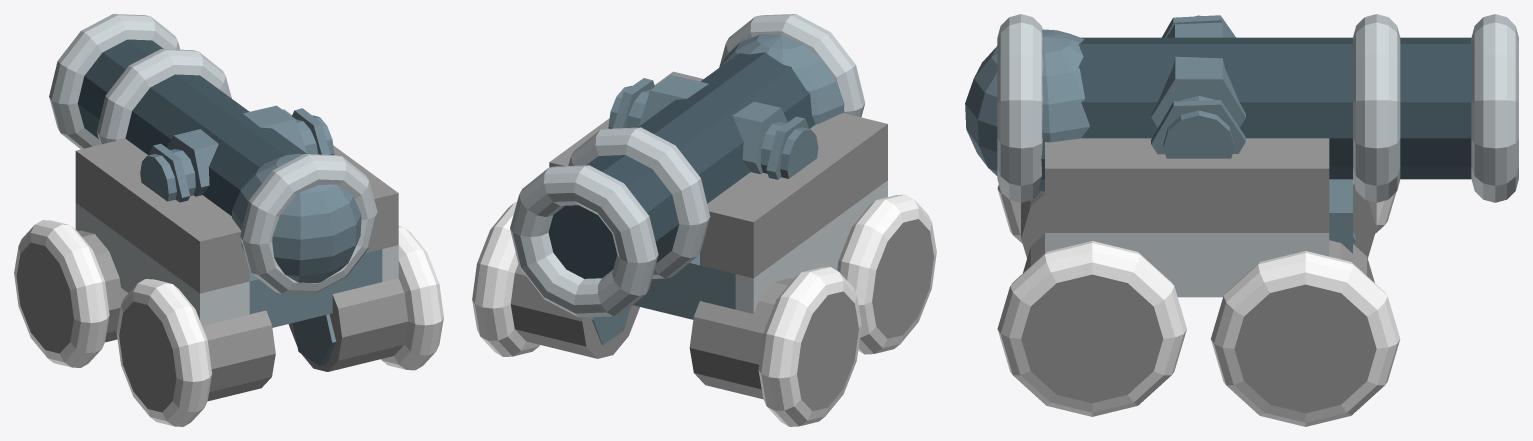
File: canhao.fbx
3 renders of one model, left to right at view 1: azimuth 30°, elevation 25°; view 2: azimuth 150°, elevation 25°; view 3: azimuth 270°, elevation 25°, orthographic. The views are drawn at different scales.
Visible parts, largest first — view 1: mesh_285139977, mesh_308771715, mesh_18012975, mesh_1867035738, mesh_1988317692, mesh_1149503058, mesh_541476541, mesh_851251280, mesh_239270354, mesh_876331153, mesh_43604787, mesh_2053900517 (+11 smaller); view 2: mesh_308771715, mesh_285139977, mesh_876331153, mesh_851251280, mesh_1149503058, mesh_1744436518, mesh_541476541, mesh_18012975, mesh_89334741, mesh_568925677, mesh_43604787, mesh_1867035738 (+10 smaller); view 3: mesh_308771715, mesh_638406648, mesh_568925677, mesh_239270354, mesh_89334741, mesh_2053900517, mesh_1695365892, mesh_1744436518, mesh_876331153, mesh_1867035738, mesh_1988317692, group_1132515545 (+8 smaller).
Part boxes in pixels (bbox=[...]): mesh_285139977: bbox=[75, 138, 249, 293]; mesh_308771715: bbox=[77, 39, 306, 216]; mesh_18012975: bbox=[119, 301, 275, 412]; mesh_1867035738: bbox=[240, 154, 377, 294]; mesh_1988317692: bbox=[232, 153, 361, 282]; mesh_1149503058: bbox=[14, 220, 109, 367]; mesh_541476541: bbox=[116, 279, 211, 426]; mesh_851251280: bbox=[16, 230, 128, 353]; mesh_239270354: bbox=[288, 278, 408, 371]; mesh_876331153: bbox=[49, 14, 180, 149]; mesh_43604787: bbox=[75, 203, 249, 325]; mesh_2053900517: bbox=[381, 226, 443, 370]; mesh_308771715: bbox=[548, 52, 815, 278]; mesh_285139977: bbox=[700, 113, 887, 278]; mesh_876331153: bbox=[510, 165, 658, 317]; mesh_851251280: bbox=[689, 278, 858, 411]; mesh_1149503058: bbox=[758, 267, 861, 426]; mesh_1744436518: bbox=[568, 127, 710, 278]; mesh_541476541: bbox=[837, 194, 936, 354]; mesh_18012975: bbox=[872, 219, 933, 338]; mesh_89334741: bbox=[472, 202, 539, 356]; mesh_568925677: bbox=[510, 264, 639, 358]; mesh_43604787: bbox=[735, 180, 887, 313]; mesh_1867035738: bbox=[719, 14, 865, 117]; mesh_308771715: bbox=[1078, 37, 1471, 179]; mesh_638406648: bbox=[1045, 138, 1329, 232]; mesh_568925677: bbox=[1234, 240, 1376, 413]; mesh_239270354: bbox=[1021, 234, 1163, 403]; mesh_89334741: bbox=[1211, 251, 1400, 426]; mesh_2053900517: bbox=[997, 241, 1186, 416]; mesh_1695365892: bbox=[1045, 233, 1329, 297]; mesh_1744436518: bbox=[1353, 14, 1400, 202]; mesh_876331153: bbox=[1471, 14, 1518, 202]; mesh_1867035738: bbox=[997, 14, 1043, 202]; mesh_1988317692: bbox=[965, 29, 1089, 193]; group_1132515545: bbox=[1151, 56, 1245, 127].
Bounding box in the file's own units: 18 × 15 × 23.37.
